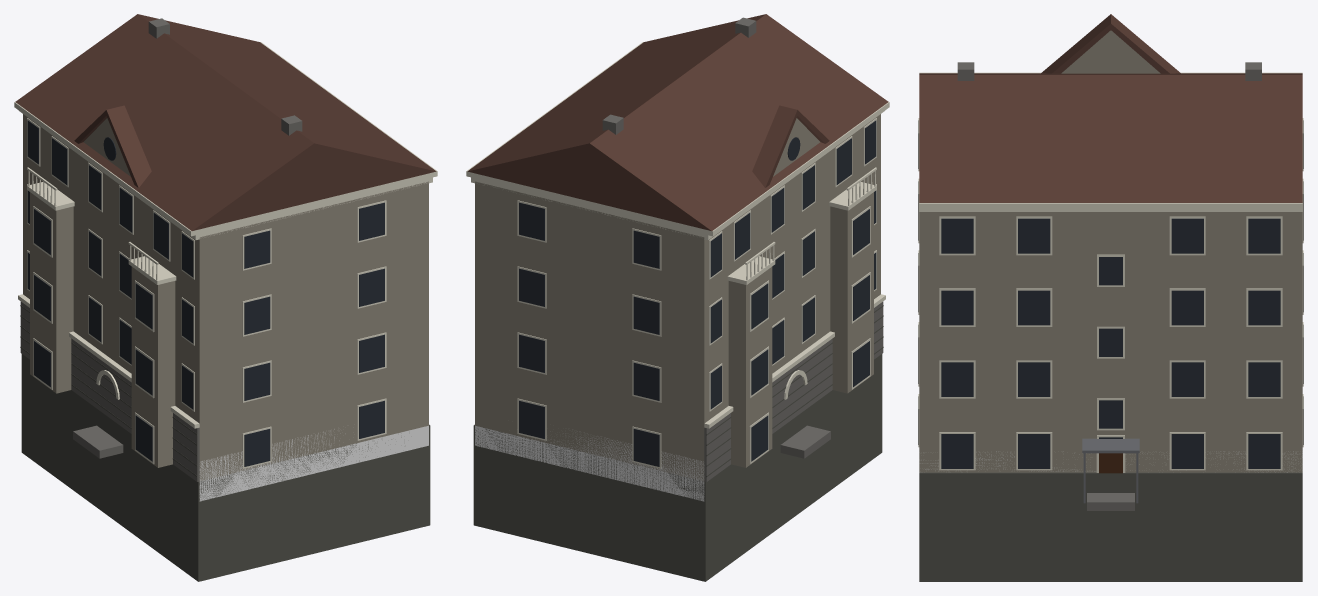
File: house-stalin-4.glb
The picture shows the model from 3 angles, left to right: view 1: azimuth 30°, elevation 25°; view 2: azimuth 150°, elevation 25°; view 3: azimuth 270°, elevation 25°; orthographic projection. The views are drawn at different scales.
Visible parts, largest first — view 1: 01_paint0, 07_#5a4038, 00_#55554f, 04_#2e333b, 03_#d8d4c4, 02_#6e6c68, solid; view 2: 01_paint0, 07_#5a4038, 00_#55554f, 04_#2e333b, 03_#d8d4c4, 02_#6e6c68, solid; view 3: 01_paint0, 07_#5a4038, 00_#55554f, 04_#2e333b, 03_#d8d4c4, 02_#6e6c68, 06_#6a6c70, 05_#4a3020.
Part boxes in pixels (left/top/right/bottom): 01_paint0: left=23, top=114, right=428, bottom=481; 07_#5a4038: left=15, top=14, right=436, bottom=230; 00_#55554f: left=20, top=305, right=430, bottom=581; 04_#2e333b: left=27, top=120, right=384, bottom=466; 03_#d8d4c4: left=14, top=42, right=437, bottom=468; 02_#6e6c68: left=20, top=18, right=302, bottom=481; solid: left=199, top=425, right=428, bottom=501; 01_paint0: left=475, top=114, right=880, bottom=481; 07_#5a4038: left=467, top=14, right=888, bottom=230; 00_#55554f: left=473, top=305, right=883, bottom=581; 04_#2e333b: left=519, top=120, right=876, bottom=466; 03_#d8d4c4: left=466, top=42, right=889, bottom=468; 02_#6e6c68: left=602, top=17, right=883, bottom=481; solid: left=475, top=425, right=704, bottom=501; 01_paint0: left=919, top=30, right=1302, bottom=472; 07_#5a4038: left=919, top=14, right=1302, bottom=202; 00_#55554f: left=919, top=472, right=1302, bottom=581; 04_#2e333b: left=918, top=120, right=1303, bottom=468; 03_#d8d4c4: left=918, top=72, right=1303, bottom=472; 02_#6e6c68: left=957, top=62, right=1261, bottom=510; 06_#6a6c70: left=1082, top=438, right=1139, bottom=503; 05_#4a3020: left=1099, top=453, right=1122, bottom=473.
Size of the model in its own units: 14.5 by 20.9 by 16.09.
